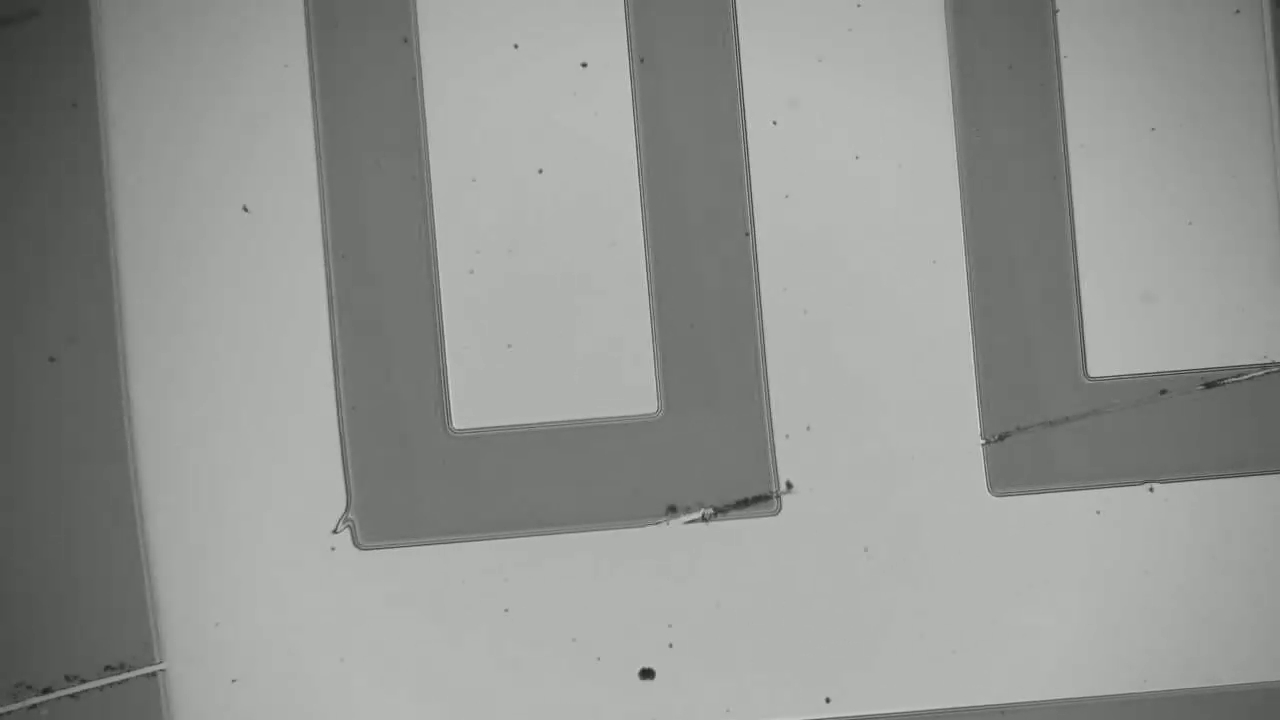scratch: (987, 364, 1275, 440), (1, 665, 157, 712), (682, 490, 775, 515)
